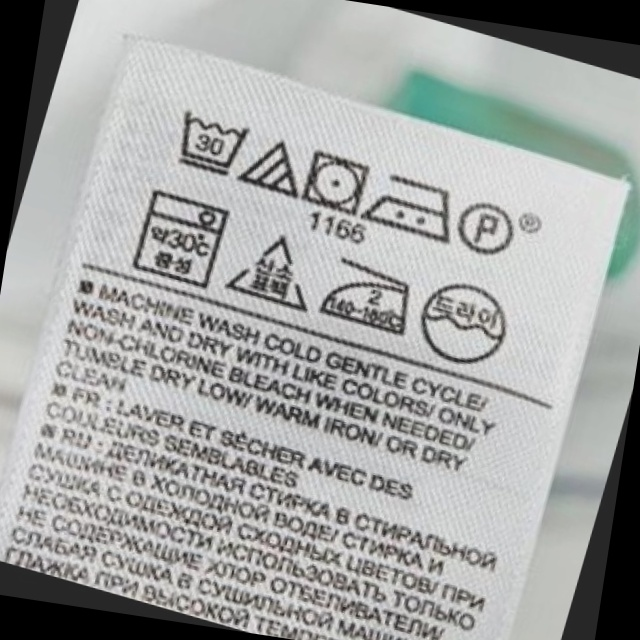30C: (120, 180, 238, 296), (165, 99, 257, 188)
dry_clean: (407, 272, 525, 377)
dry_clean_any_solvent_except_trichloroethylene: (451, 195, 520, 265)
iron_medium: (312, 249, 428, 343), (355, 162, 469, 252)
non_chlorine_bleach: (220, 225, 327, 320), (236, 133, 315, 206)
tumble_dry_low: (296, 146, 378, 219)
